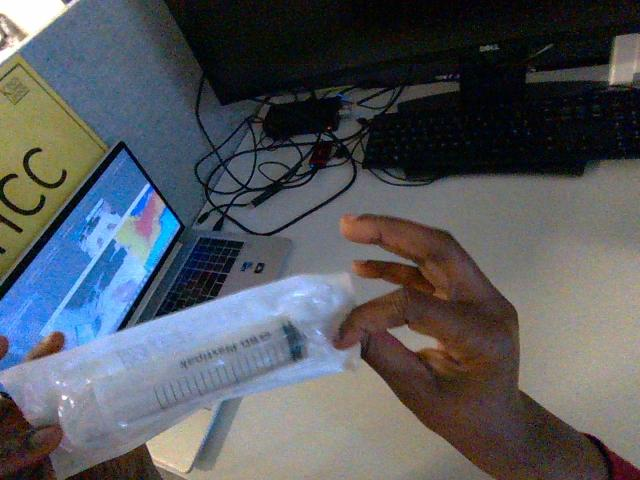syringe: (0, 273, 354, 478)
